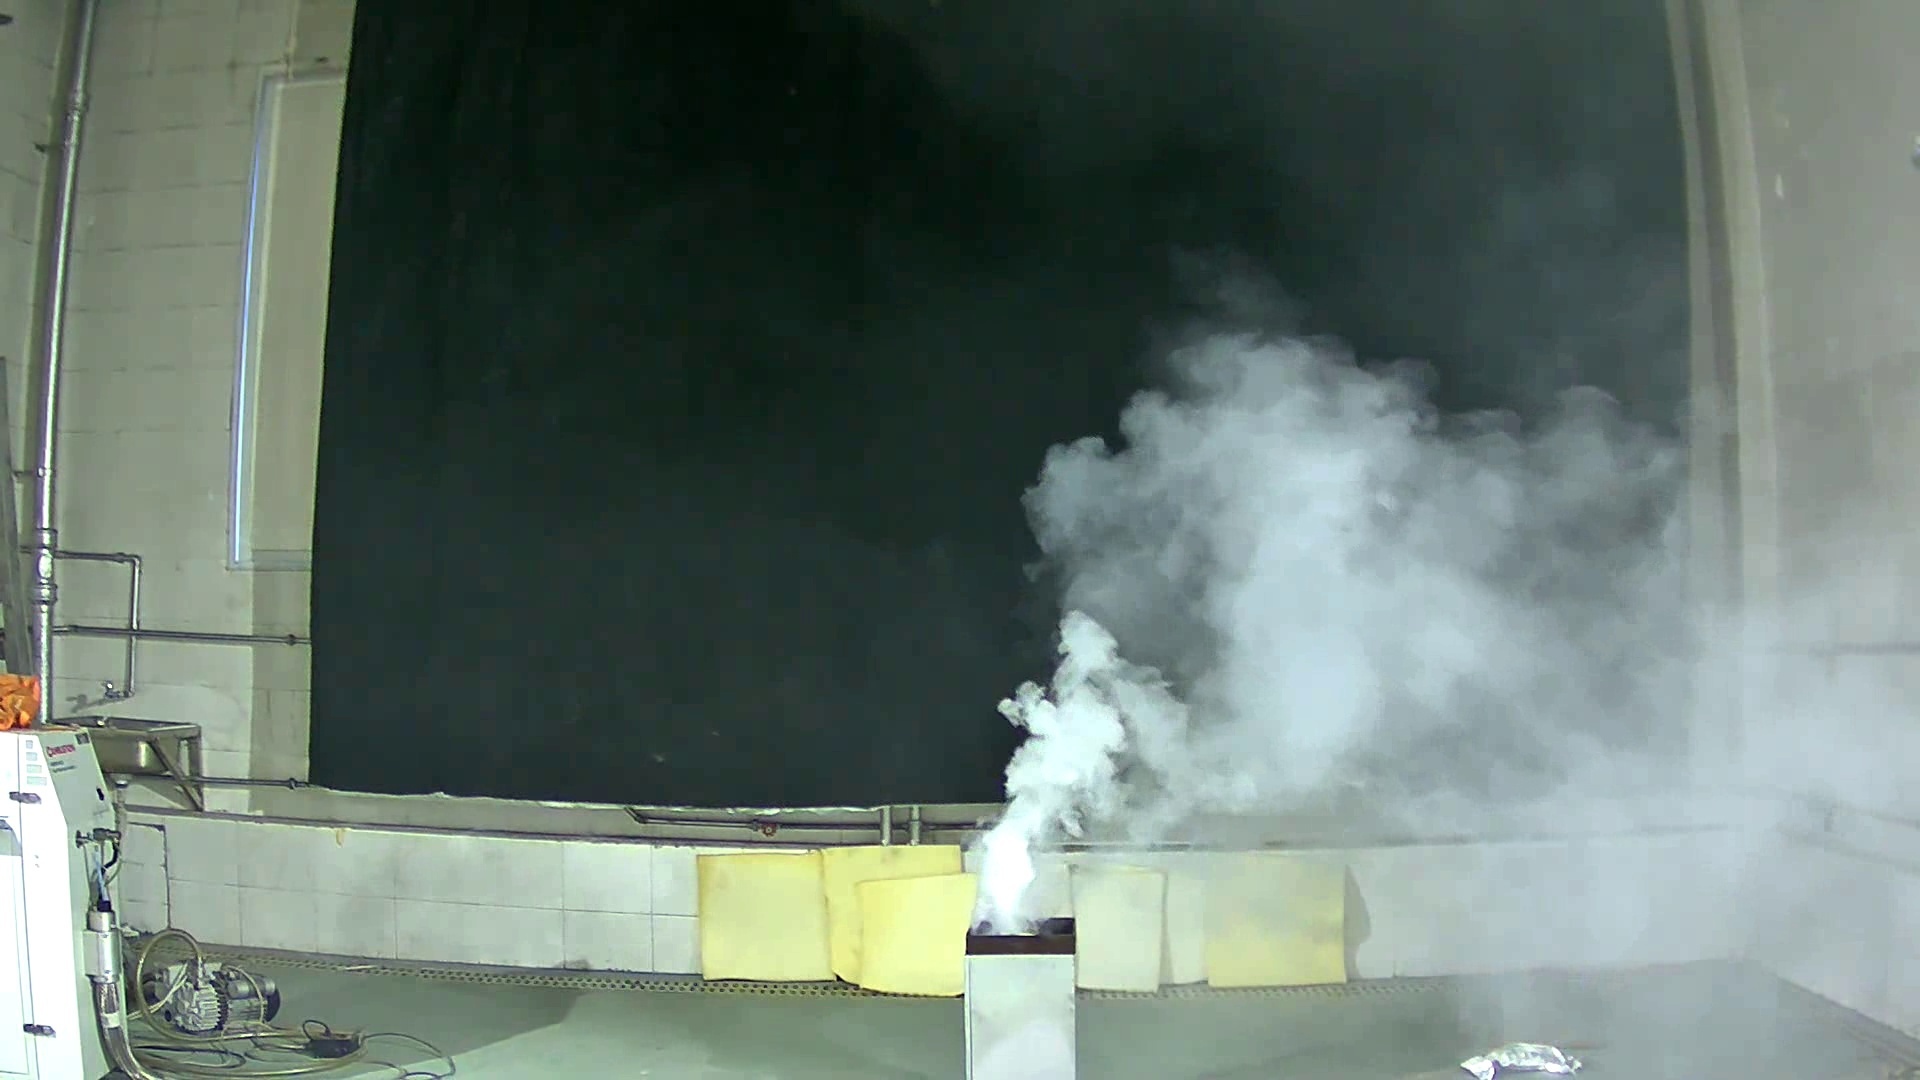smoke: (936, 311, 1683, 934)
